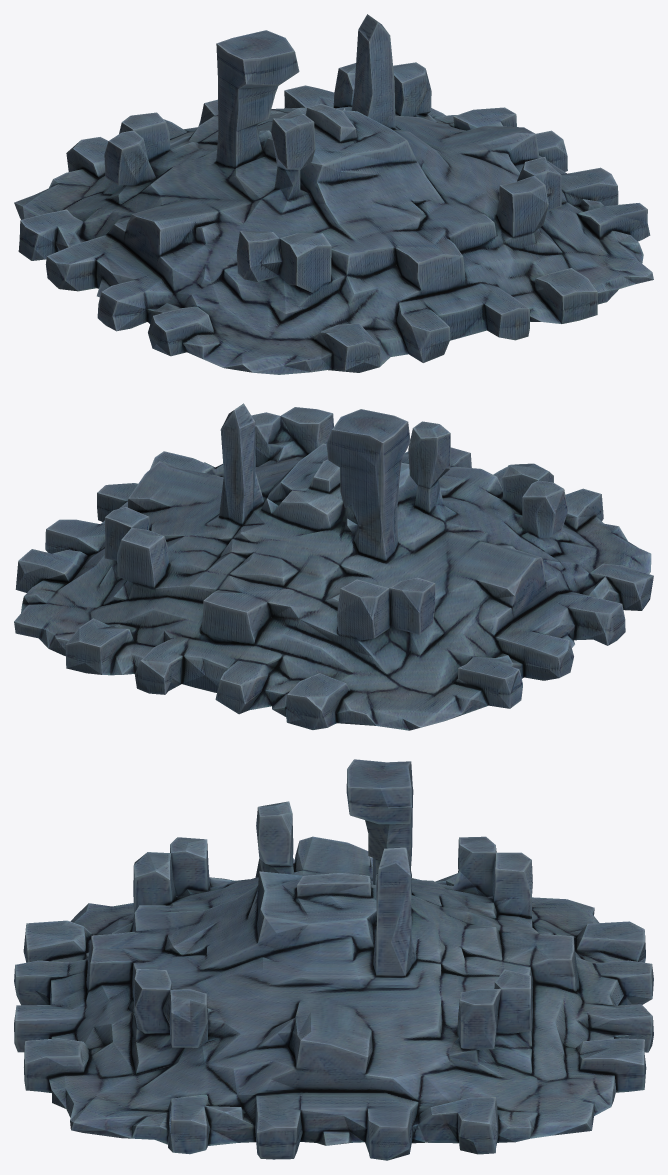
File: rubble.glb
3 renders of one model, top to bottom at view 1: azimuth 30°, elevation 25°; view 2: azimuth 150°, elevation 25°; view 3: azimuth 270°, elevation 25°, orthographic. The views are drawn at different scales.
Visible parts, largest first — view 1: Mesh; view 2: Mesh; view 3: Mesh.
Part boxes in pixels (bbox=[...]): Mesh: bbox=[14, 14, 653, 374]; Mesh: bbox=[14, 403, 653, 730]; Mesh: bbox=[14, 759, 653, 1160].
Size of the model in its own units: 1.91 by 0.7199 by 1.87.
Materials: 1 (1 with a texture image).
